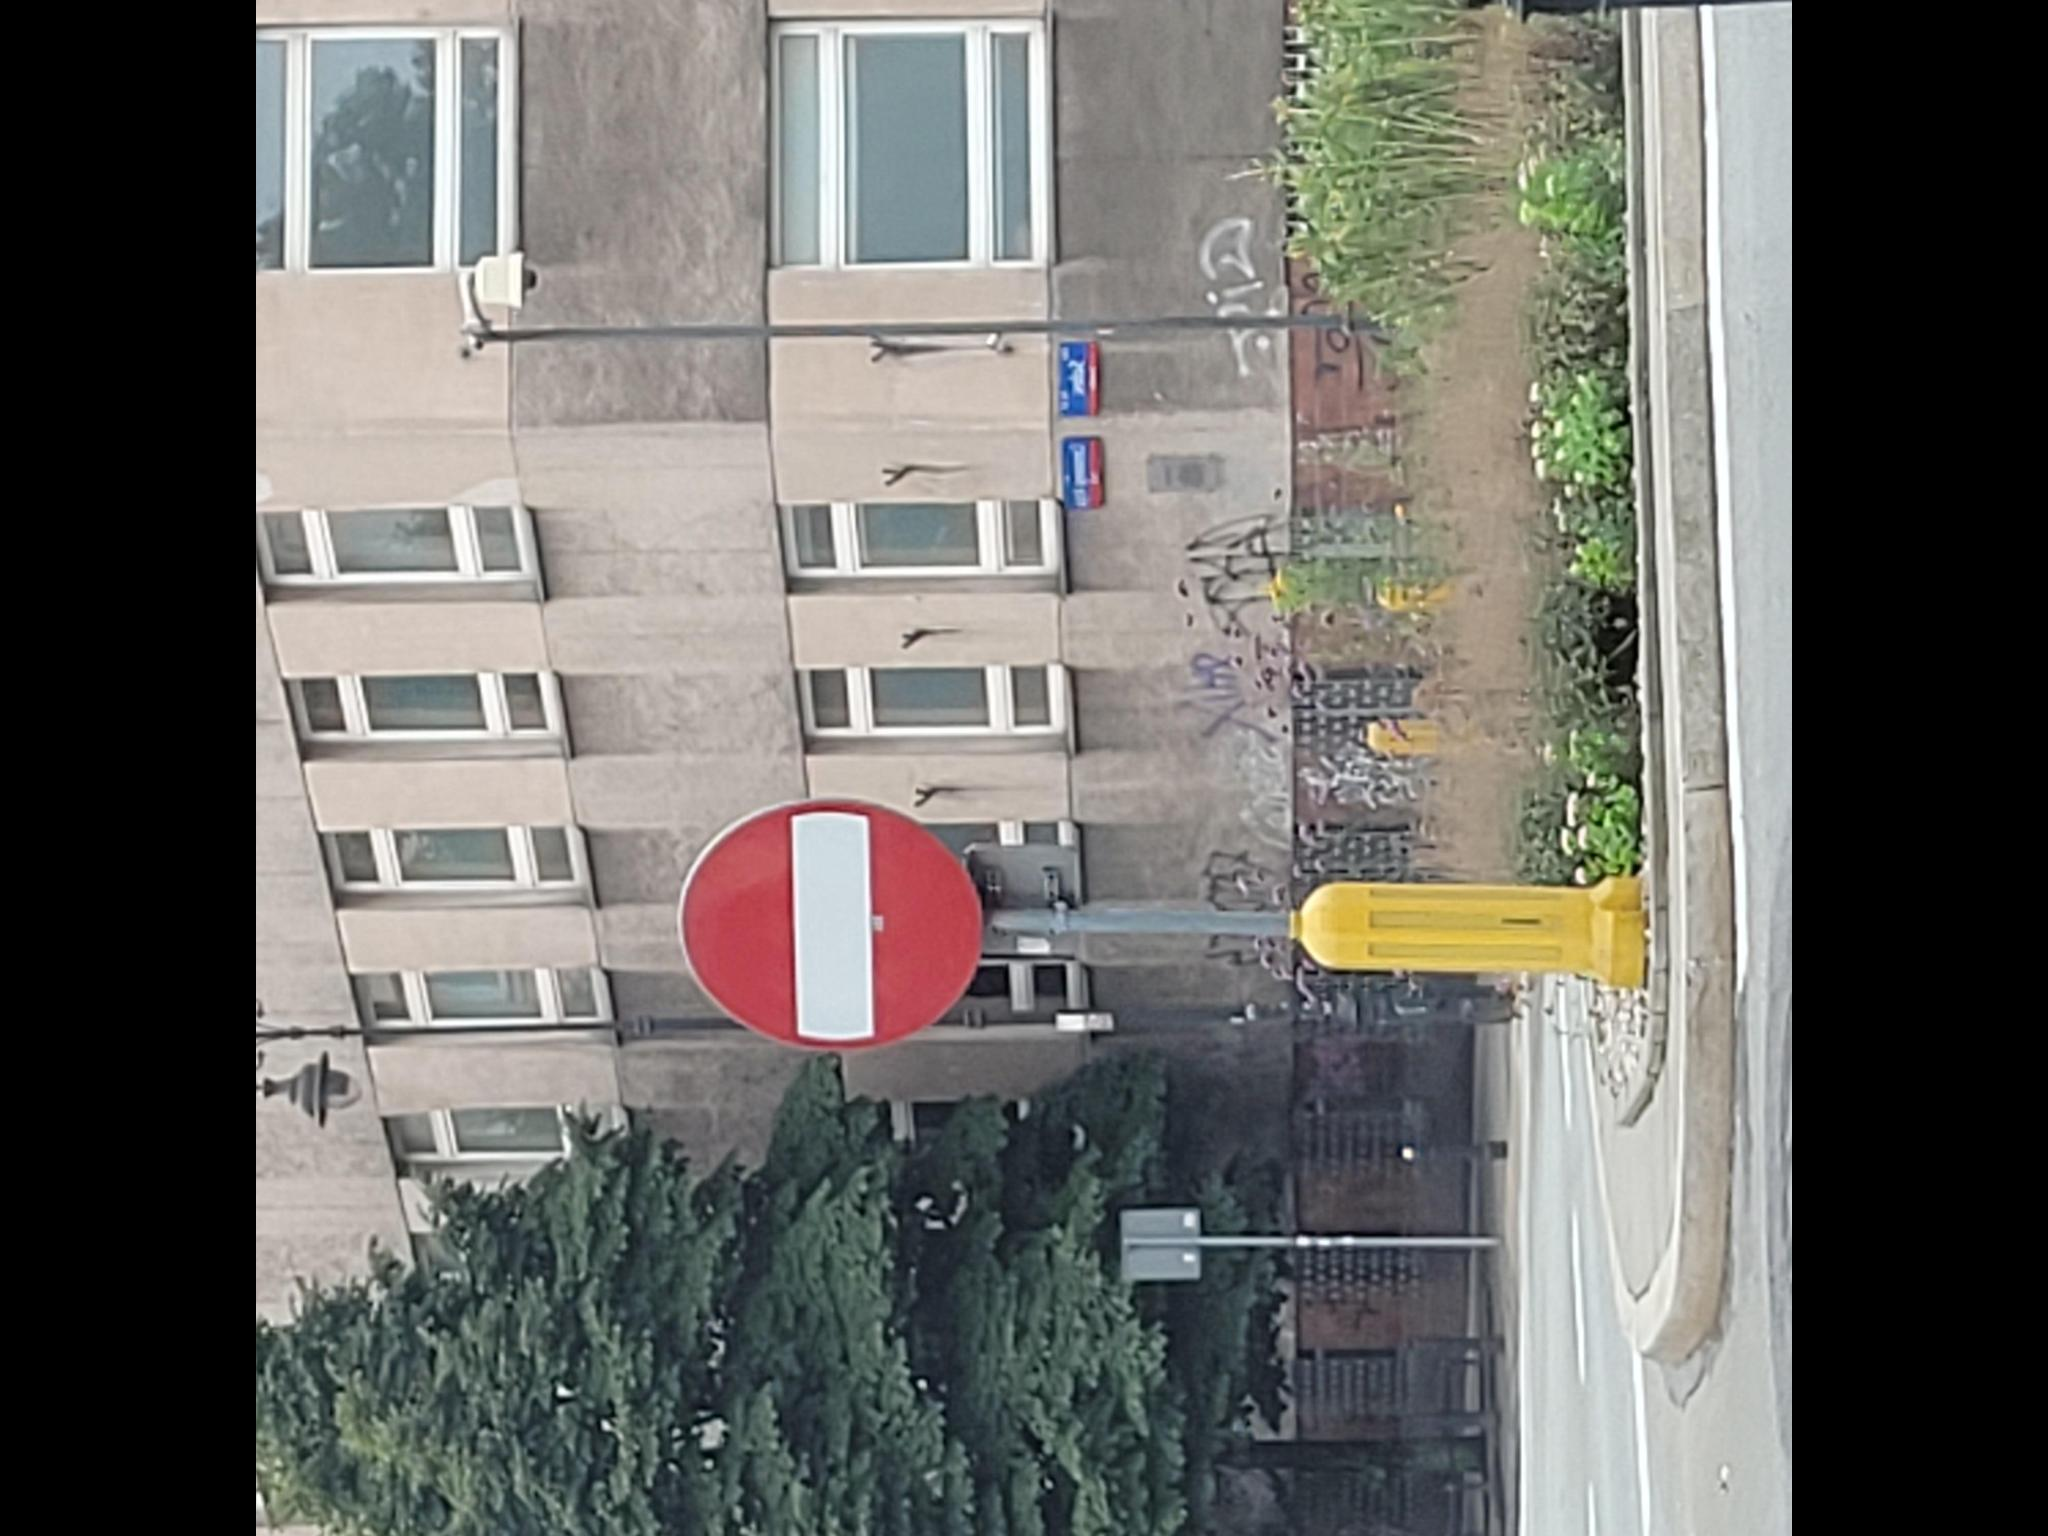prohibitory: (677, 799, 985, 1054)
